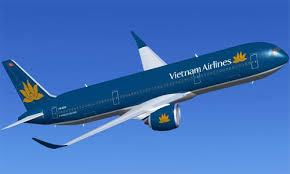maybay_dansu: (2, 40, 290, 137)
